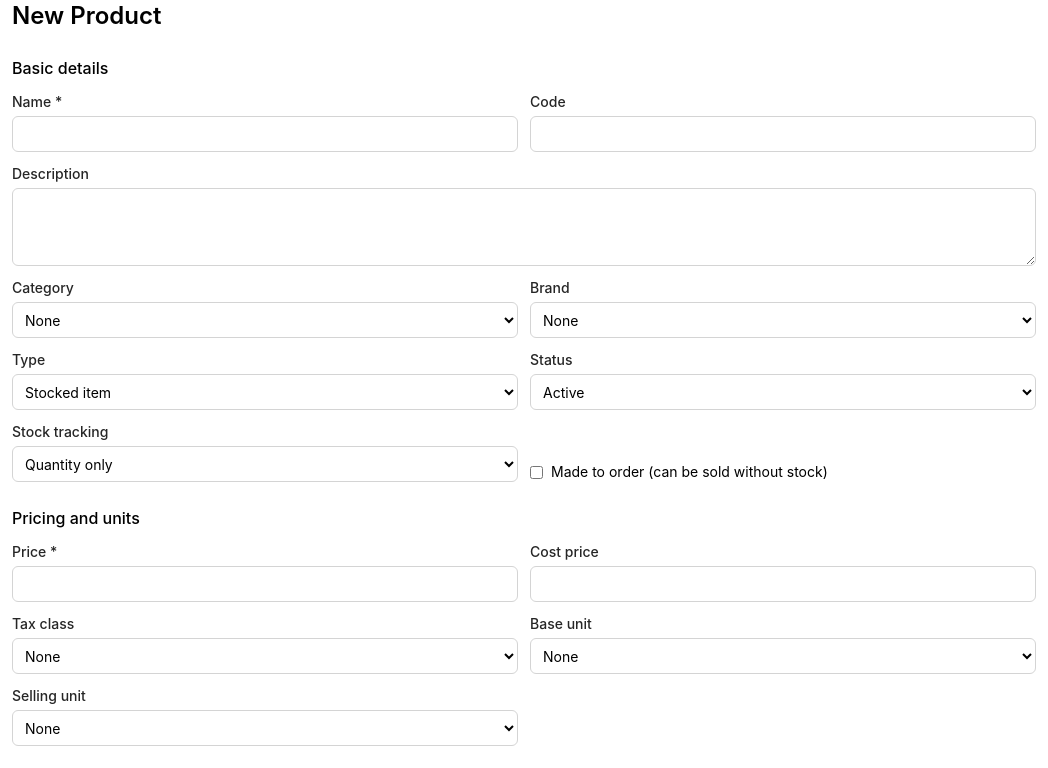
Test case: ProductForm — create › shows category-scoped fields only inside that category and its sub-categories (6.5)
Expected: the field labelled "Seats" is not shown
Select "— Sofas" in the dropdown labelled "Category": (265, 320) 12,302 -> 518,338
(page scrolled)
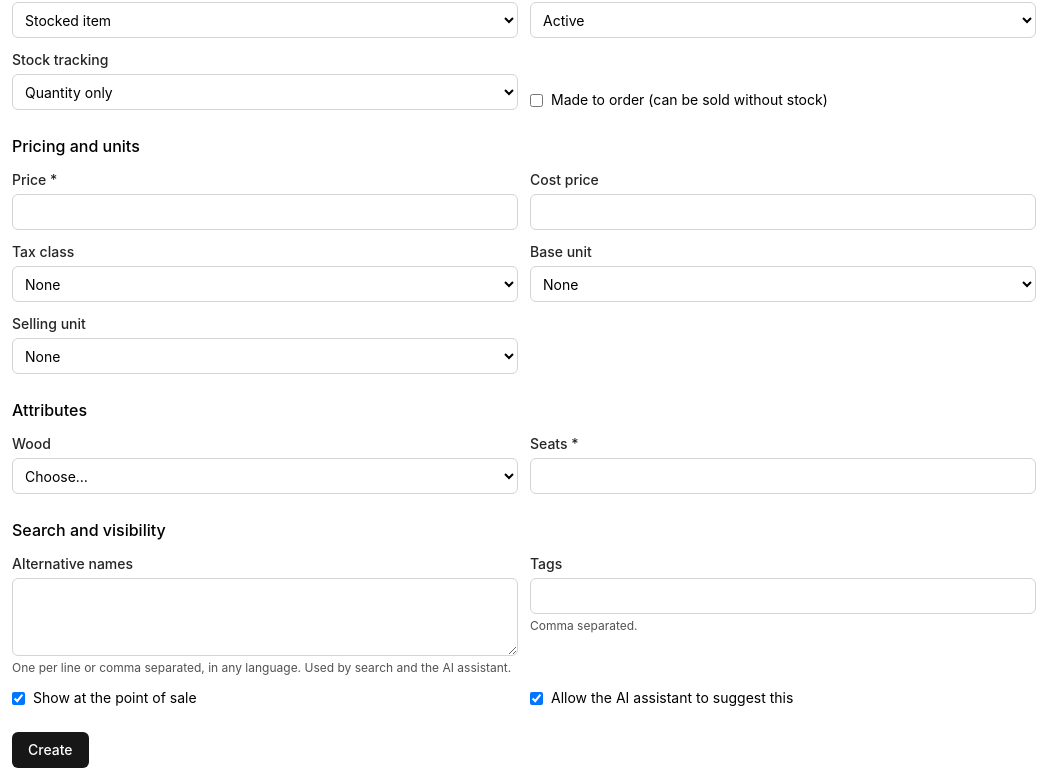
Now the field labelled "Seats *" is shown, box 530,458 -> 1036,494
